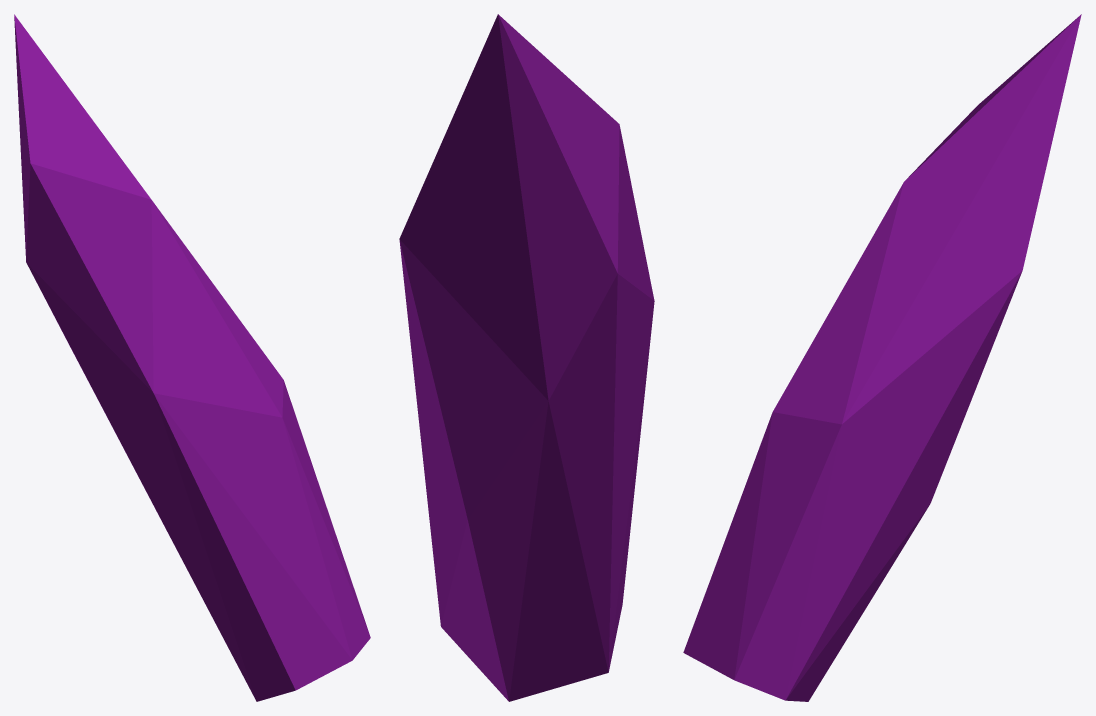
The model's file is GemStone01.fbx.
3 views of the same model, side by side, from view 1: azimuth 30°, elevation 25°; view 2: azimuth 150°, elevation 25°; view 3: azimuth 270°, elevation 25° (orthographic). The views are drawn at different scales.
Parts seen in each view (by area): view 1: Icosphere.003; view 2: Icosphere.003; view 3: Icosphere.003.
Boxes of the visible parts, x1,y1,x2,y2 form: Icosphere.003: (14,14,370,701); Icosphere.003: (399,14,654,701); Icosphere.003: (683,14,1081,701).
Size of the model in its own units: 68.81 by 176 by 101.
